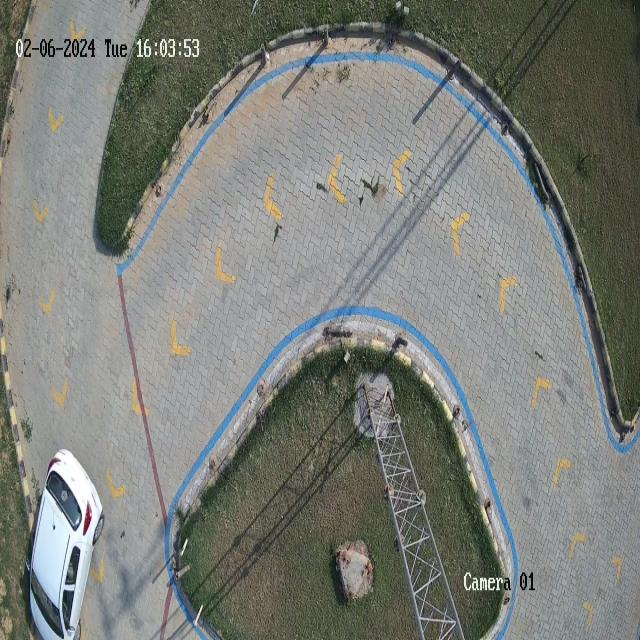car: (26, 451, 104, 640)
